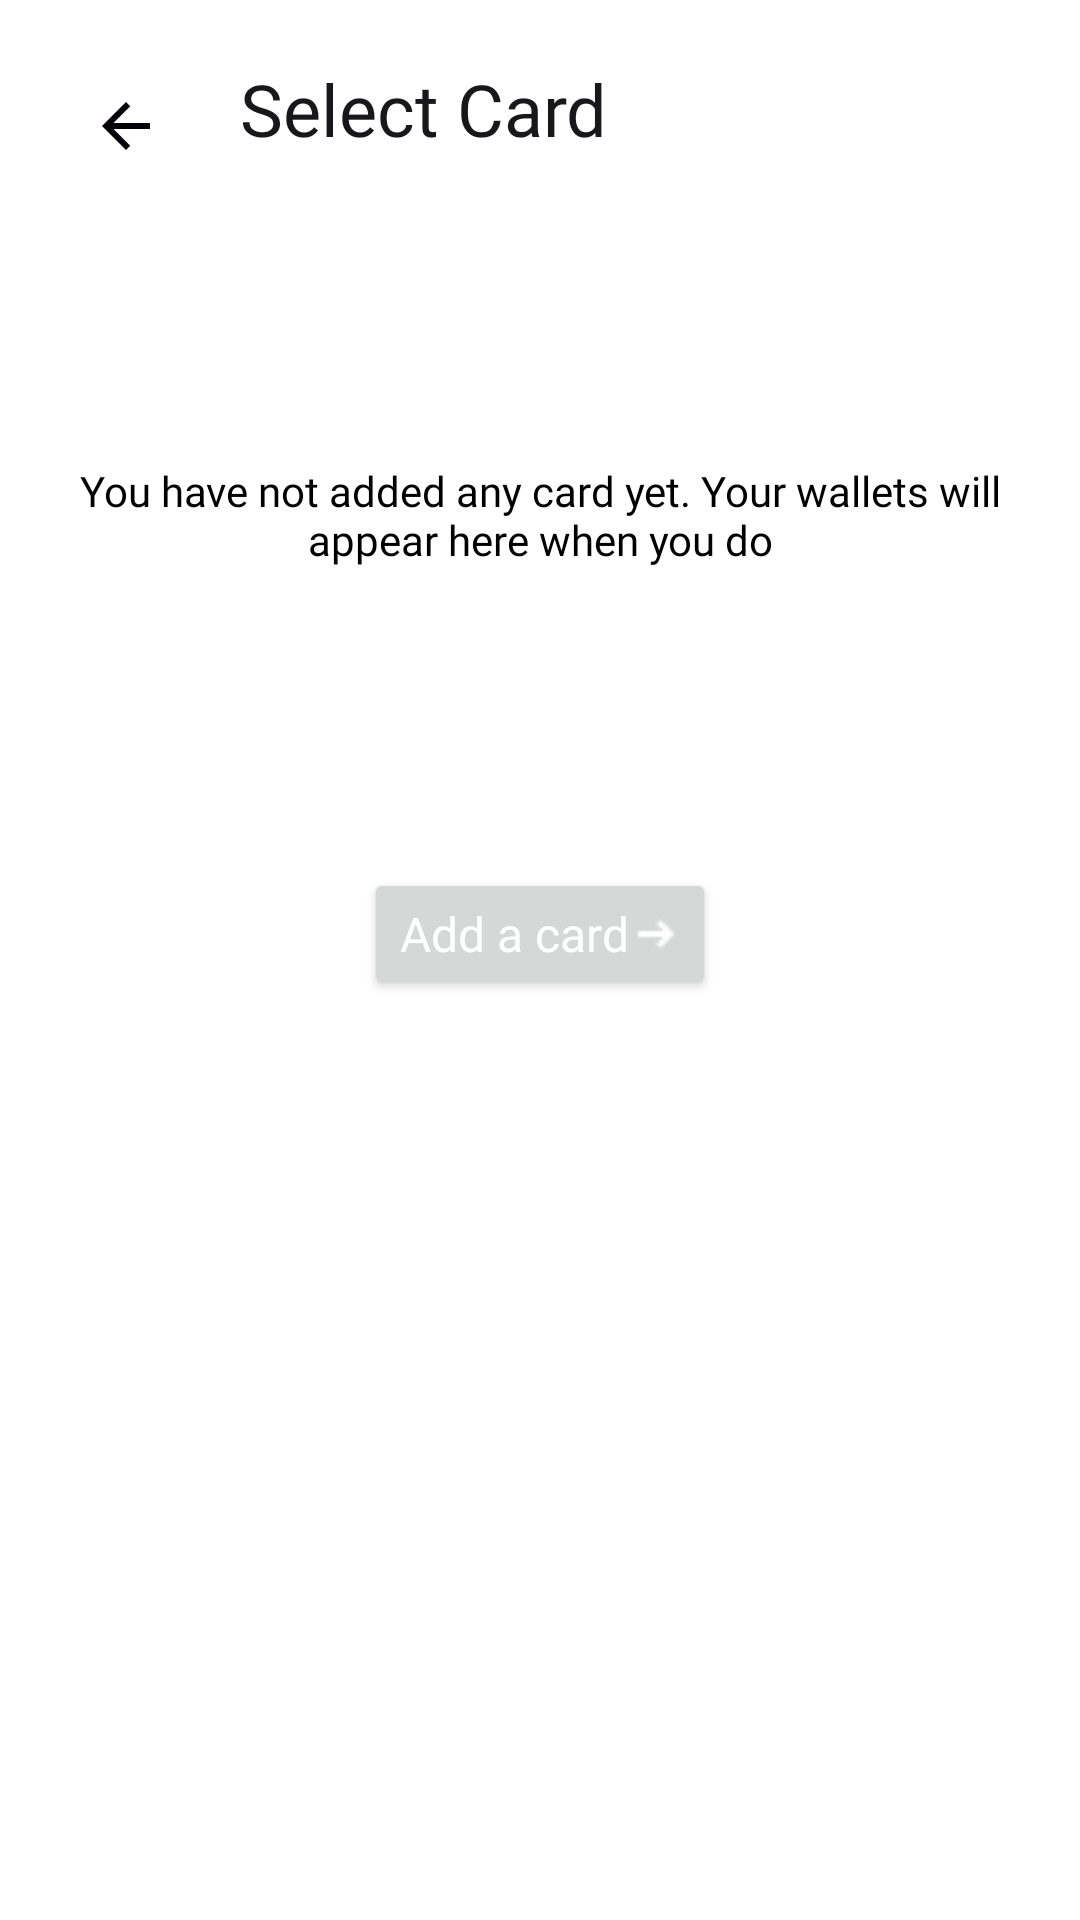

Screen size 1080px×1920px. Icon name, then its box in pixels as bbox(x1, y1, x2, y2):
arrow back: bbox(102, 102, 150, 150)
